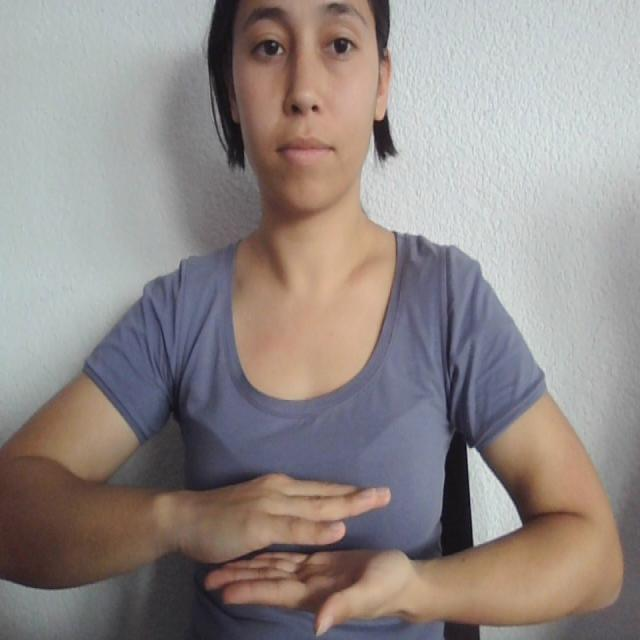Arkadas: (58, 467, 569, 640)
